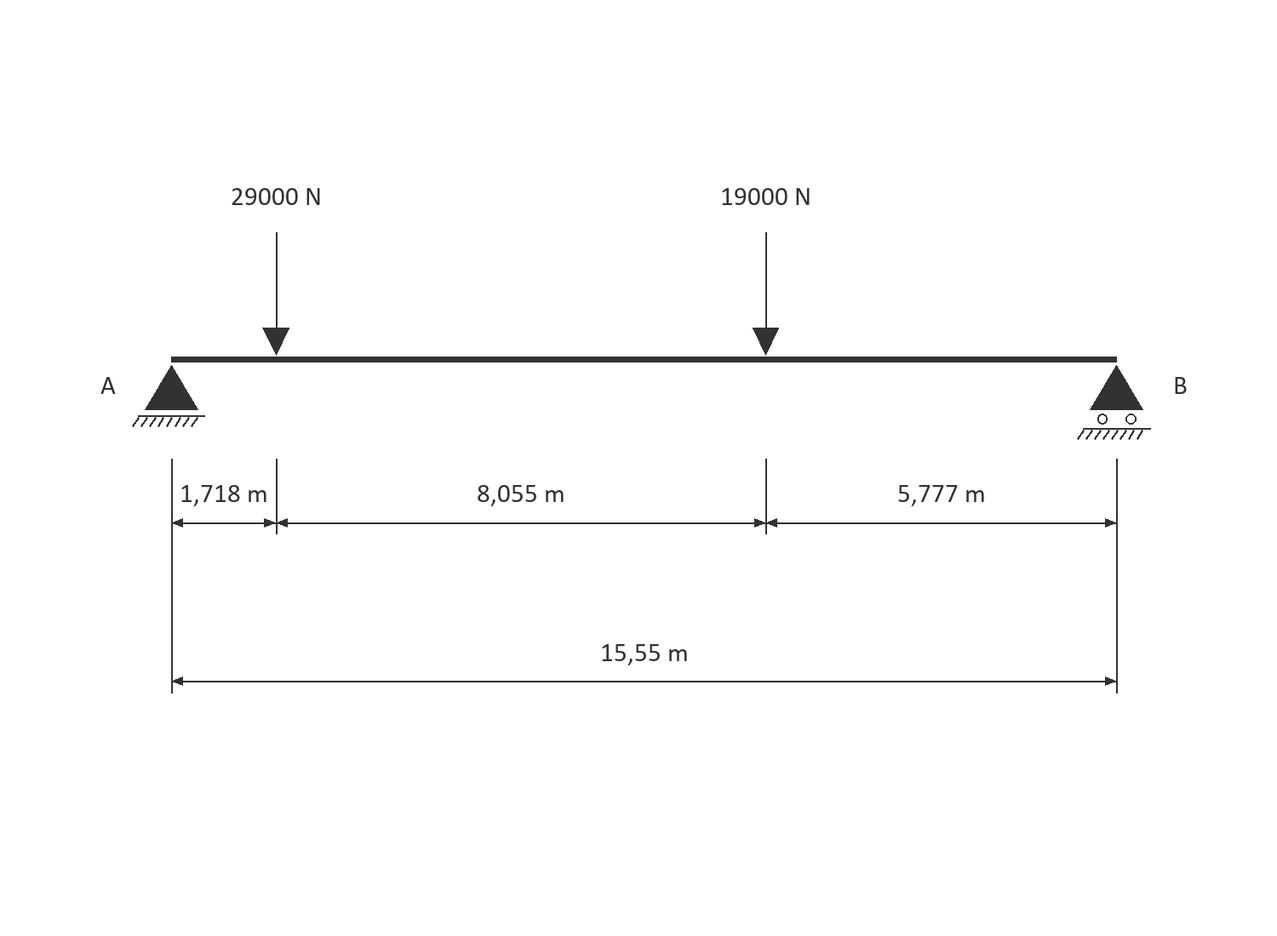pin_support: (132, 365, 205, 427)
point_load: (262, 232, 289, 356), (753, 232, 779, 356)
roller_support: (1077, 365, 1151, 440)
